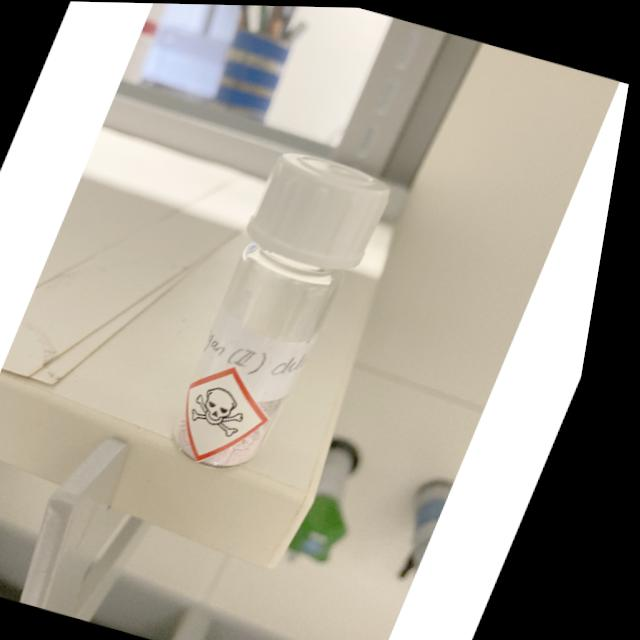acute toxicity: (198, 380, 267, 438)
